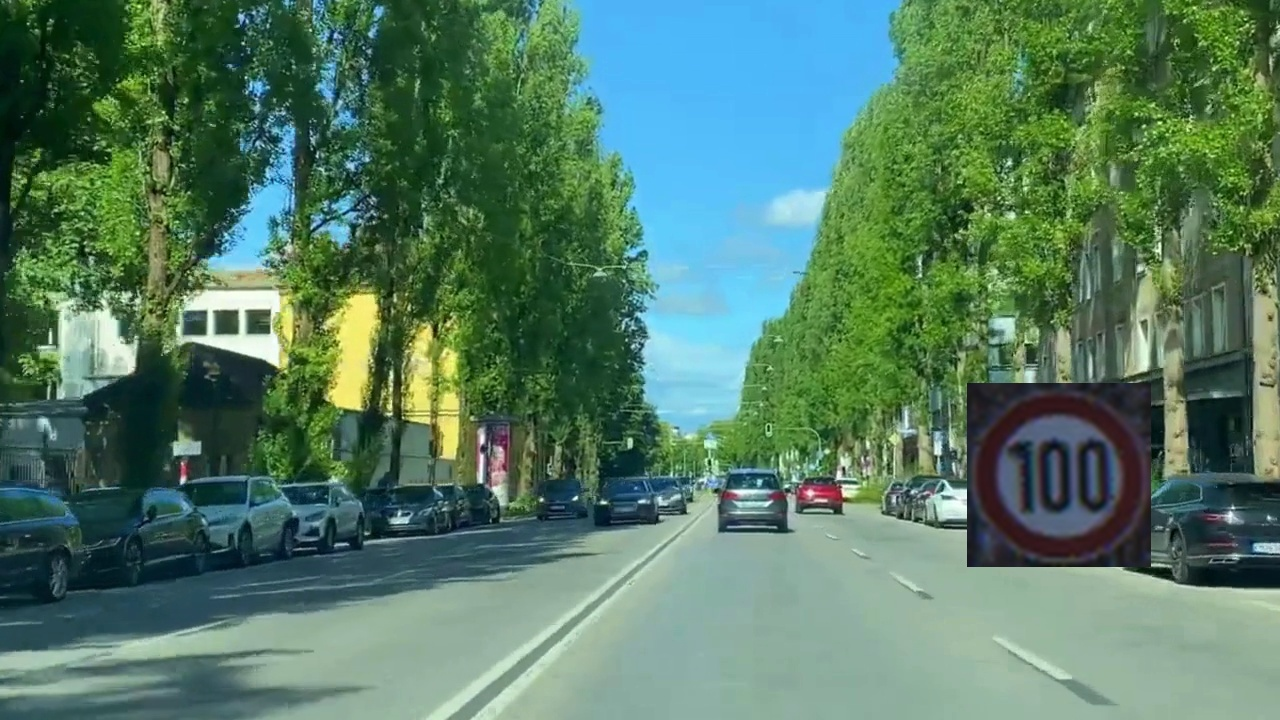Speed 100: (967, 383, 1151, 567)
